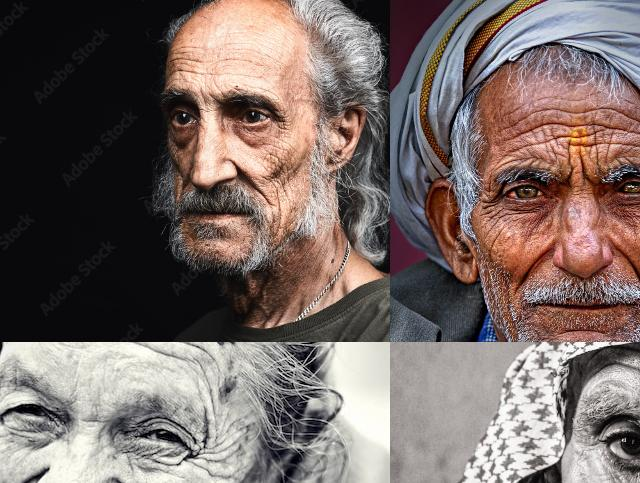crows_feet: (184, 438, 224, 470), (480, 188, 504, 216), (276, 112, 292, 138)
forehead: (197, 370, 220, 426), (572, 104, 610, 134), (141, 342, 203, 360), (610, 134, 640, 167), (504, 143, 542, 169), (615, 102, 640, 138), (504, 102, 530, 136), (538, 106, 566, 136), (560, 142, 594, 164), (217, 52, 256, 70), (172, 51, 198, 77), (605, 357, 640, 375), (67, 342, 131, 351)
frown_line: (562, 160, 596, 192), (75, 410, 107, 426), (197, 88, 221, 108)
gummy_smile: (517, 248, 547, 286), (617, 246, 640, 284), (2, 465, 45, 483), (236, 162, 258, 188)
masseter: (481, 228, 505, 256), (201, 463, 231, 483), (274, 162, 292, 188), (273, 190, 287, 220)
